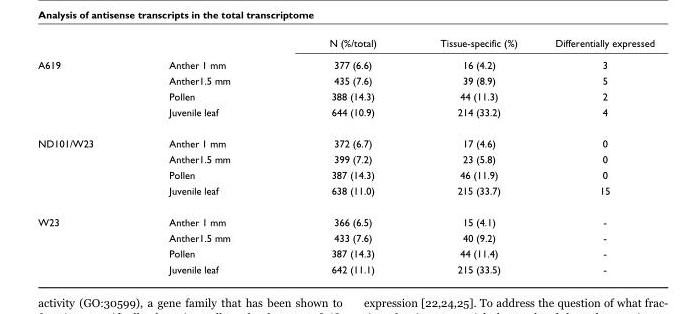table: (37, 36, 653, 274)
table column: (130, 36, 279, 274), (279, 36, 407, 274), (407, 36, 535, 274), (535, 36, 653, 274), (37, 36, 130, 274)
table column header: (37, 36, 653, 53)
table row: (37, 103, 653, 127), (37, 205, 653, 229), (37, 127, 653, 150), (37, 182, 653, 205), (37, 53, 653, 72), (37, 36, 653, 53), (37, 72, 653, 88), (37, 150, 653, 166), (37, 166, 653, 182), (37, 229, 653, 245), (37, 88, 653, 103), (37, 245, 653, 260), (37, 260, 653, 274)
table spanning cell: (37, 127, 130, 205), (37, 53, 130, 127), (37, 205, 130, 274)
